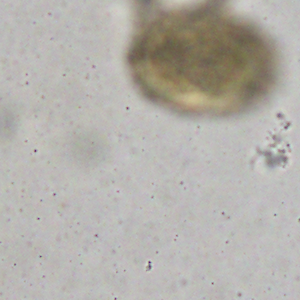Fasciola_hepatica_egg: (127, 9, 278, 116)
